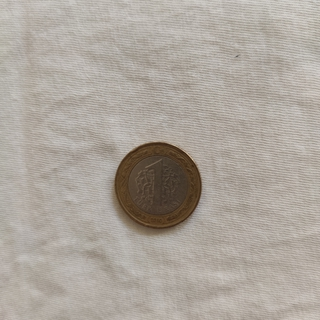1TL: (112, 140, 203, 230)
